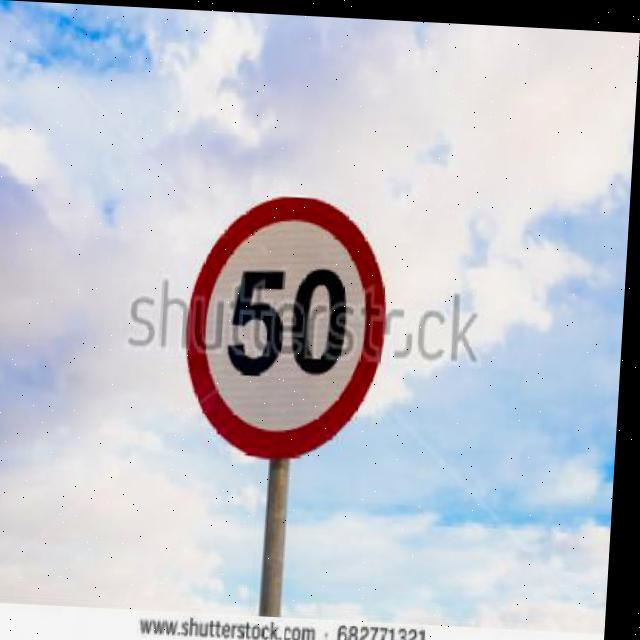Speed limit 50: (177, 183, 406, 468)
